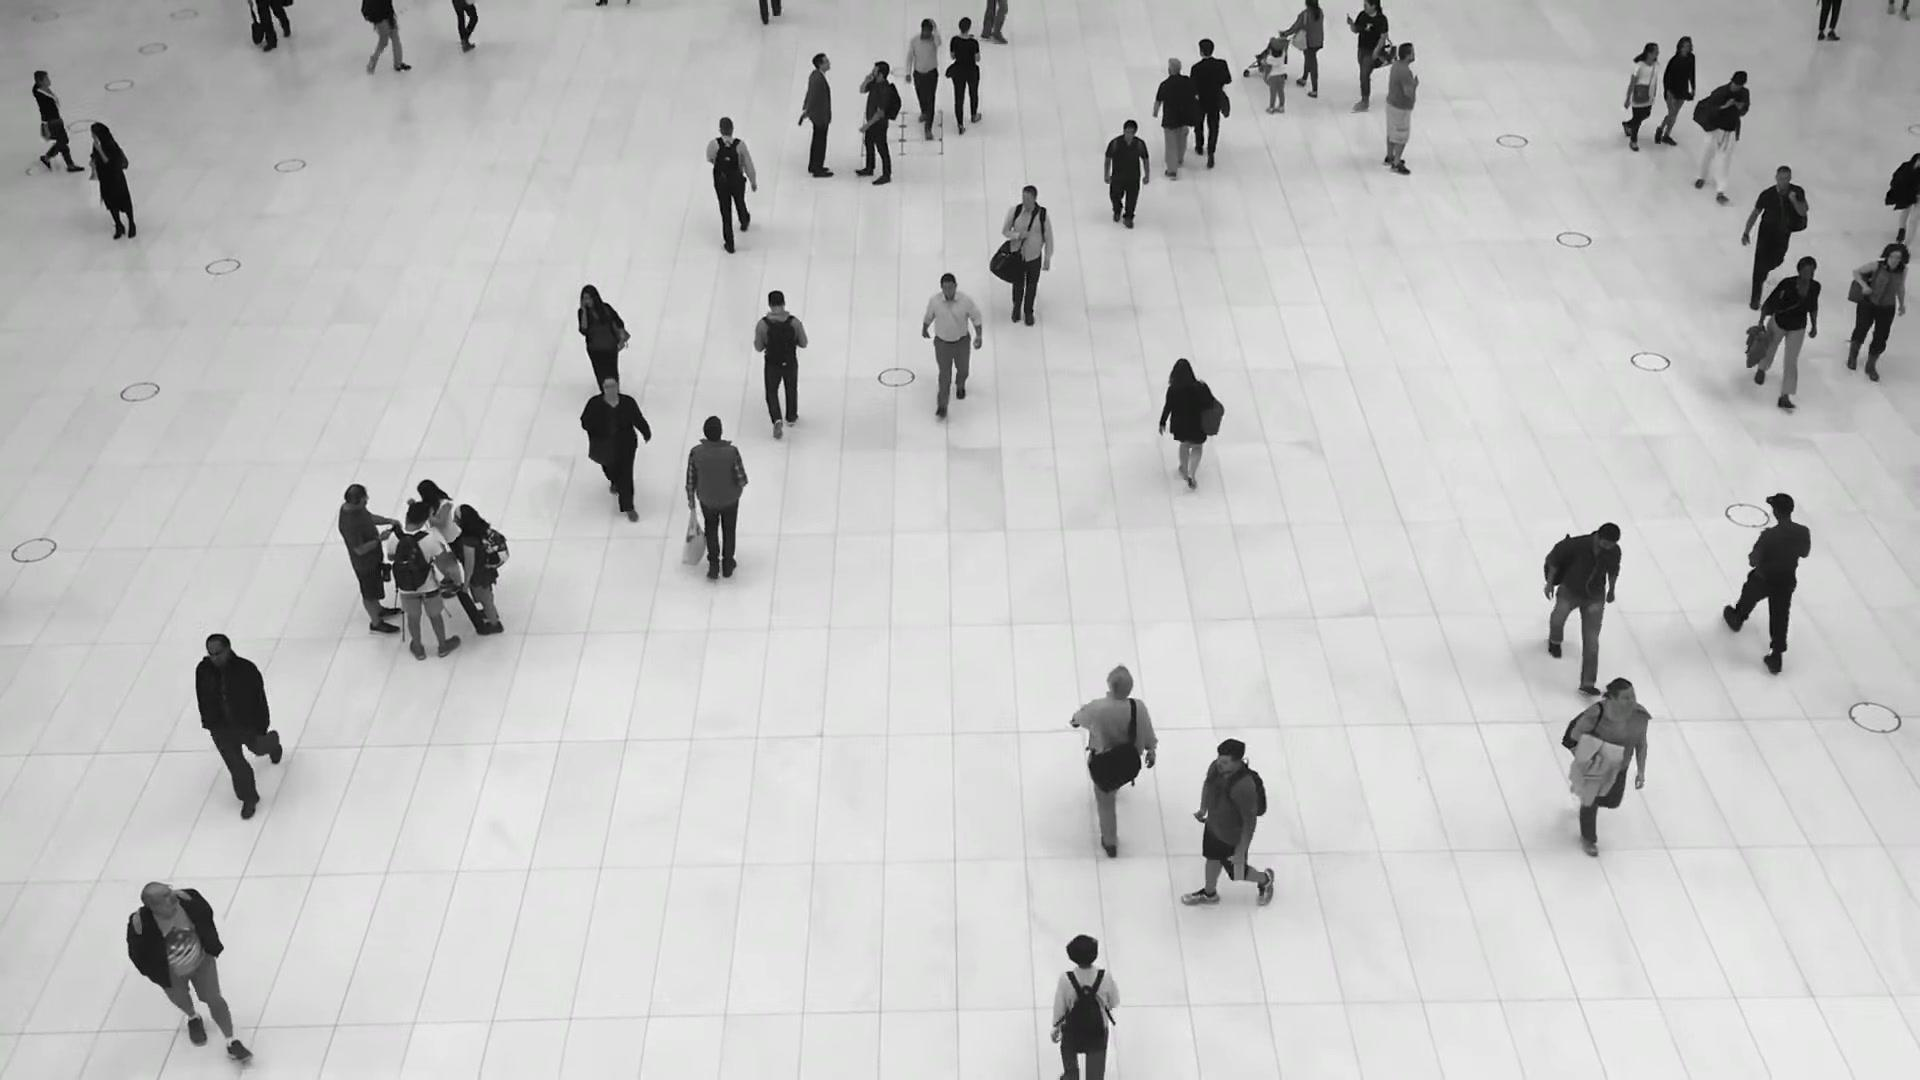person: (125, 880, 250, 1062), (1072, 665, 1158, 861), (1561, 677, 1652, 854), (195, 632, 281, 817), (1184, 738, 1273, 908), (1729, 489, 1813, 659), (1543, 521, 1622, 695), (384, 502, 460, 660), (683, 415, 748, 584), (579, 371, 651, 521), (1754, 251, 1823, 409), (1049, 936, 1122, 1080), (337, 483, 401, 634), (1742, 164, 1809, 305), (921, 270, 982, 417), (1845, 243, 1910, 383), (752, 290, 807, 437), (1161, 359, 1219, 496), (1694, 69, 1751, 204), (1001, 184, 1053, 328), (705, 115, 757, 253), (454, 503, 506, 635), (28, 71, 87, 174), (1152, 58, 1200, 180), (576, 283, 630, 389), (855, 60, 899, 185), (90, 120, 136, 240), (1101, 118, 1150, 229), (1189, 38, 1232, 167), (416, 478, 459, 598), (1382, 41, 1420, 175), (1651, 35, 1695, 147), (904, 16, 943, 137), (1346, 0, 1388, 110), (798, 52, 834, 178), (1621, 42, 1662, 151), (1285, 0, 1324, 98), (949, 16, 981, 135), (1262, 36, 1287, 113)
